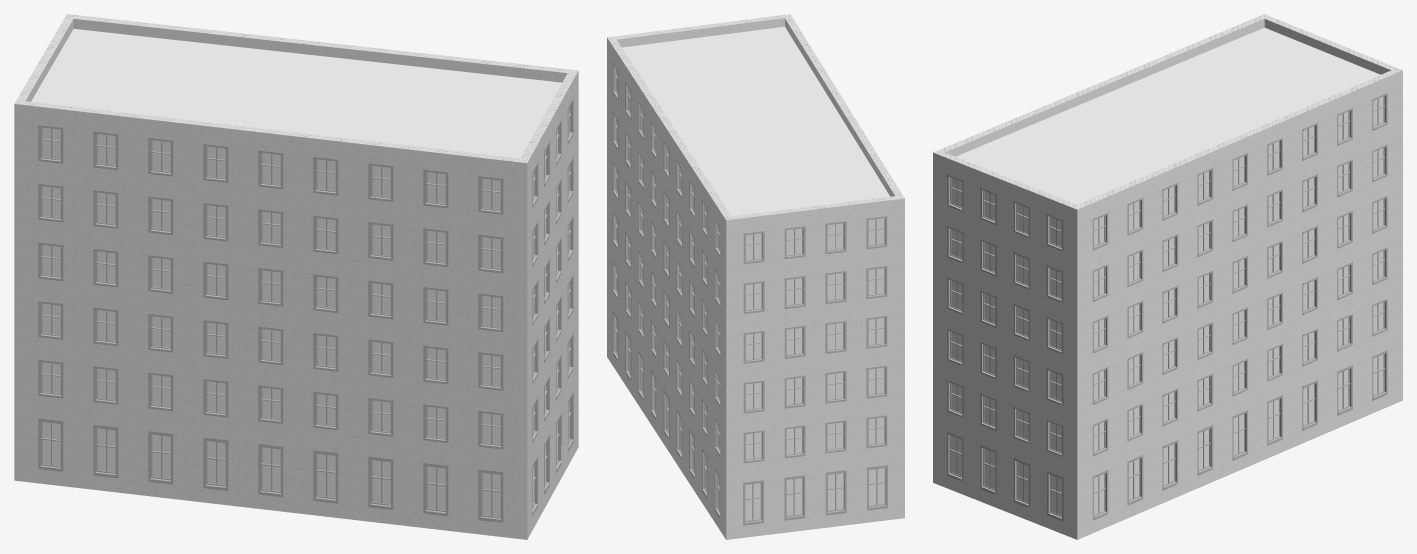
File: clohbnce502sl4p02isojz9zj_0.glb
3 renders of one model, left to right at view 1: azimuth 30°, elevation 25°; view 2: azimuth 150°, elevation 25°; view 3: azimuth 270°, elevation 25°, orthographic. The views are drawn at different scales.
Parts seen in each view (by area): view 1: mesh_Brick, mesh_CityEnginePBRShader, mesh_Rim, mesh_Glass; view 2: mesh_Brick, mesh_CityEnginePBRShader, mesh_Rim, mesh_Glass; view 3: mesh_Brick, mesh_CityEnginePBRShader, mesh_Rim, mesh_Glass.
Boxes of the visible parts, x1,y1,x2,y2 form: mesh_Brick: (14,14,578,539); mesh_CityEnginePBRShader: (31,29,561,158); mesh_Rim: (38,98,573,522); mesh_Glass: (42,107,569,516); mesh_Brick: (607,14,904,539); mesh_CityEnginePBRShader: (622,26,890,215); mesh_Rim: (612,62,887,525); mesh_Glass: (616,69,884,520); mesh_Brick: (933,14,1402,539); mesh_CityEnginePBRShader: (956,27,1380,204); mesh_Rim: (947,93,1387,521); mesh_Glass: (951,96,1383,515).
Size of the model in its own units: 28.65 by 22.55 by 29.07.
Materials: 4 (1 with a texture image).
